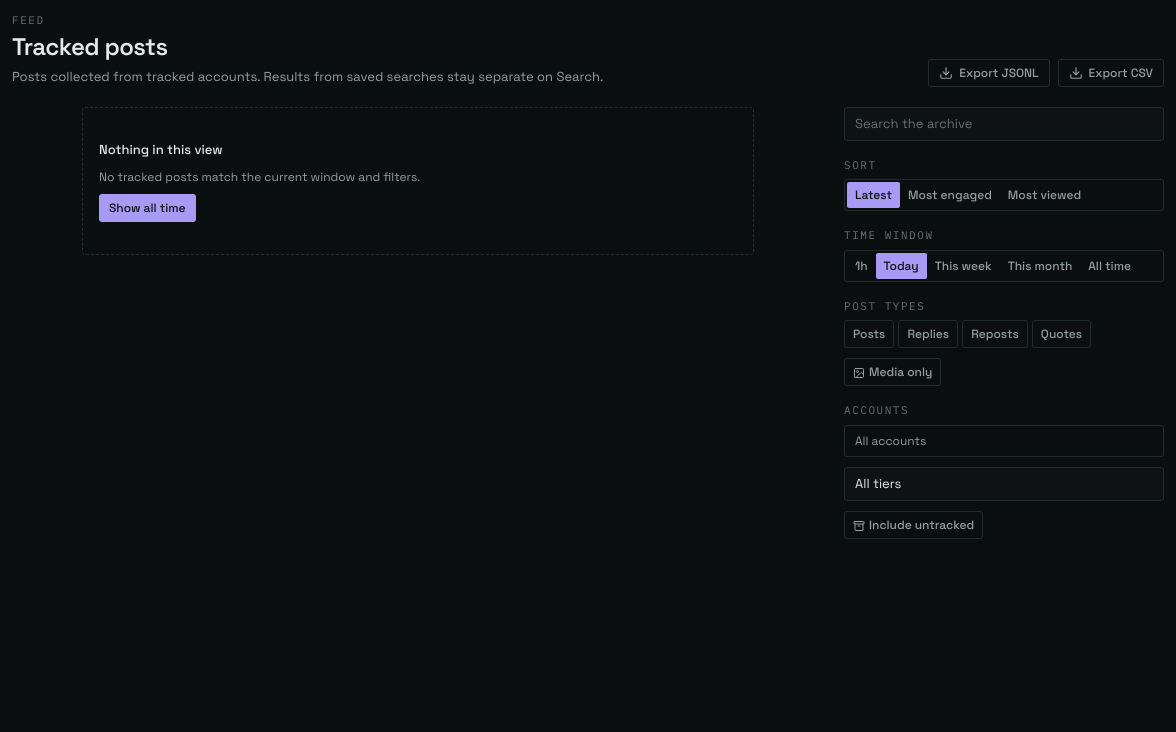
Test case: Feed export › reports a failed job rather than downloading nothing
The image size is (1176, 732).
Click the button "Export CSV" at (1111, 72), box x1=1058 y1=58 x2=1164 y2=86
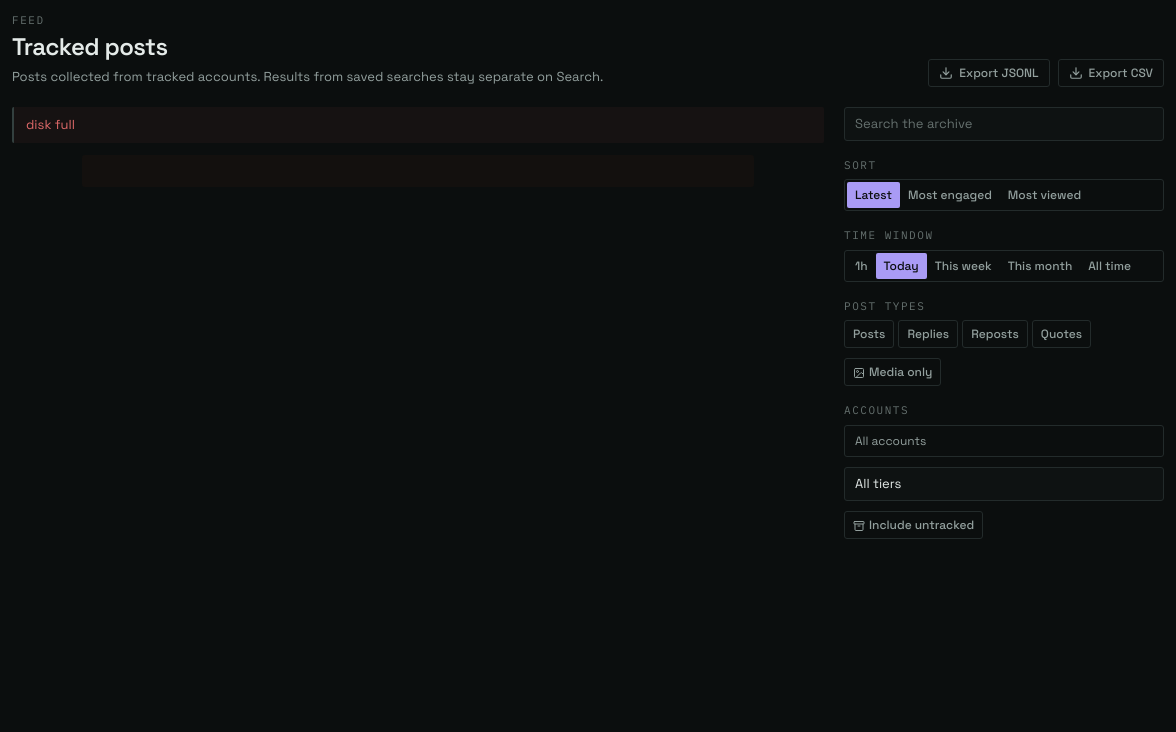
expect the text "disk full" is shown: met, box x1=12 y1=106 x2=824 y2=142
